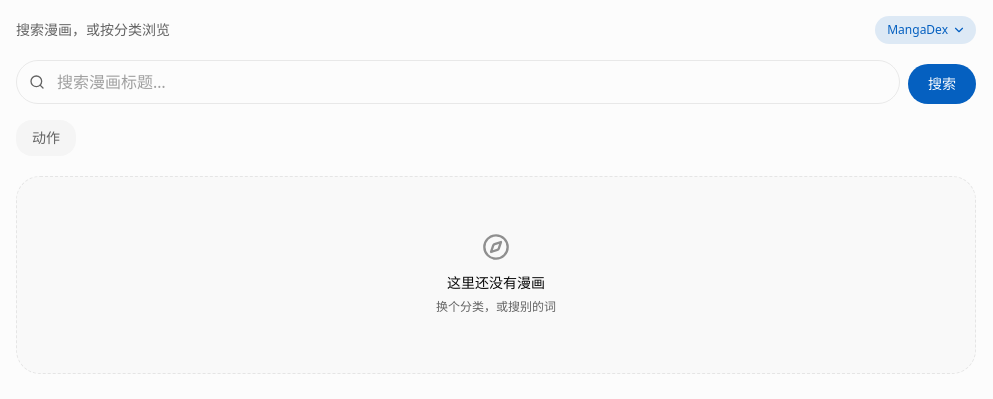
Test: Sources 发现 List 页面（tab 切换） › 搜索无结果时给出搜索自己的空状态
Expected: the tab "动作 动作" is shown, left=18, top=122, right=74, bottom=154
In the field with placeholder "搜索漫画标题…": coordinates (458, 82) left=17, top=61, right=899, bottom=103, type "不存在的作品"
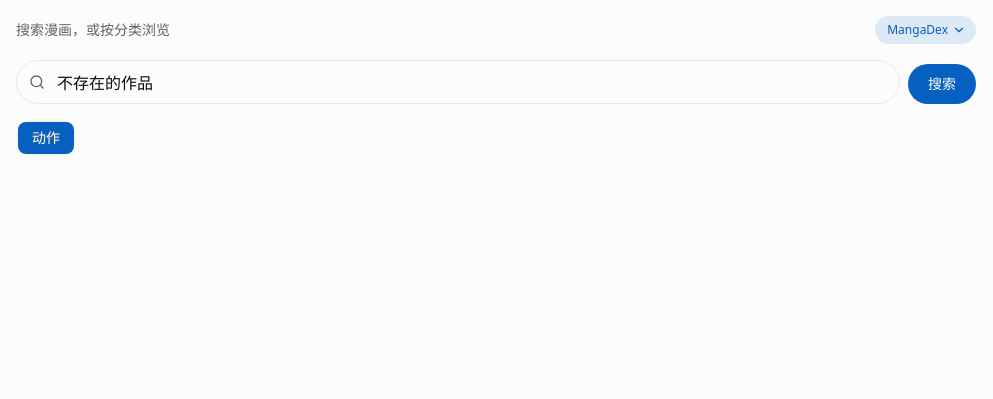
Click the button "搜索": coordinates (942, 84) left=908, top=64, right=976, bottom=104
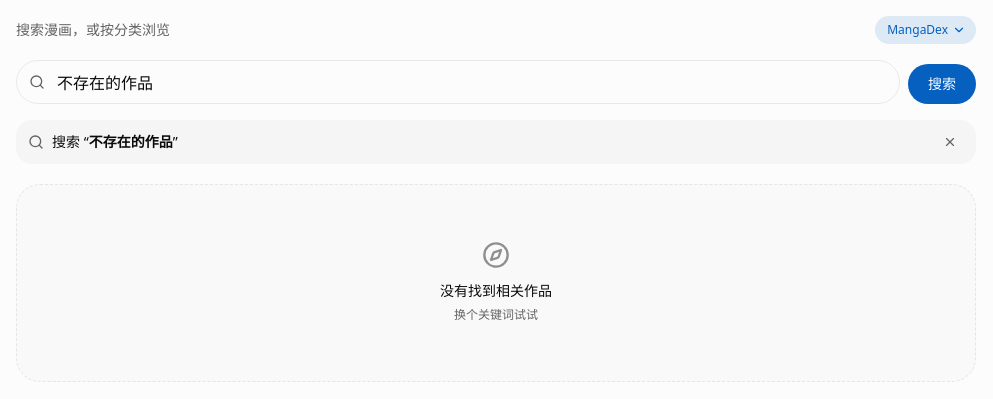
Expected: the text "没有找到相关作品" is shown, left=440, top=281, right=552, bottom=301
Expected: the text "换个关键词试试" is shown, left=454, top=305, right=538, bottom=325
